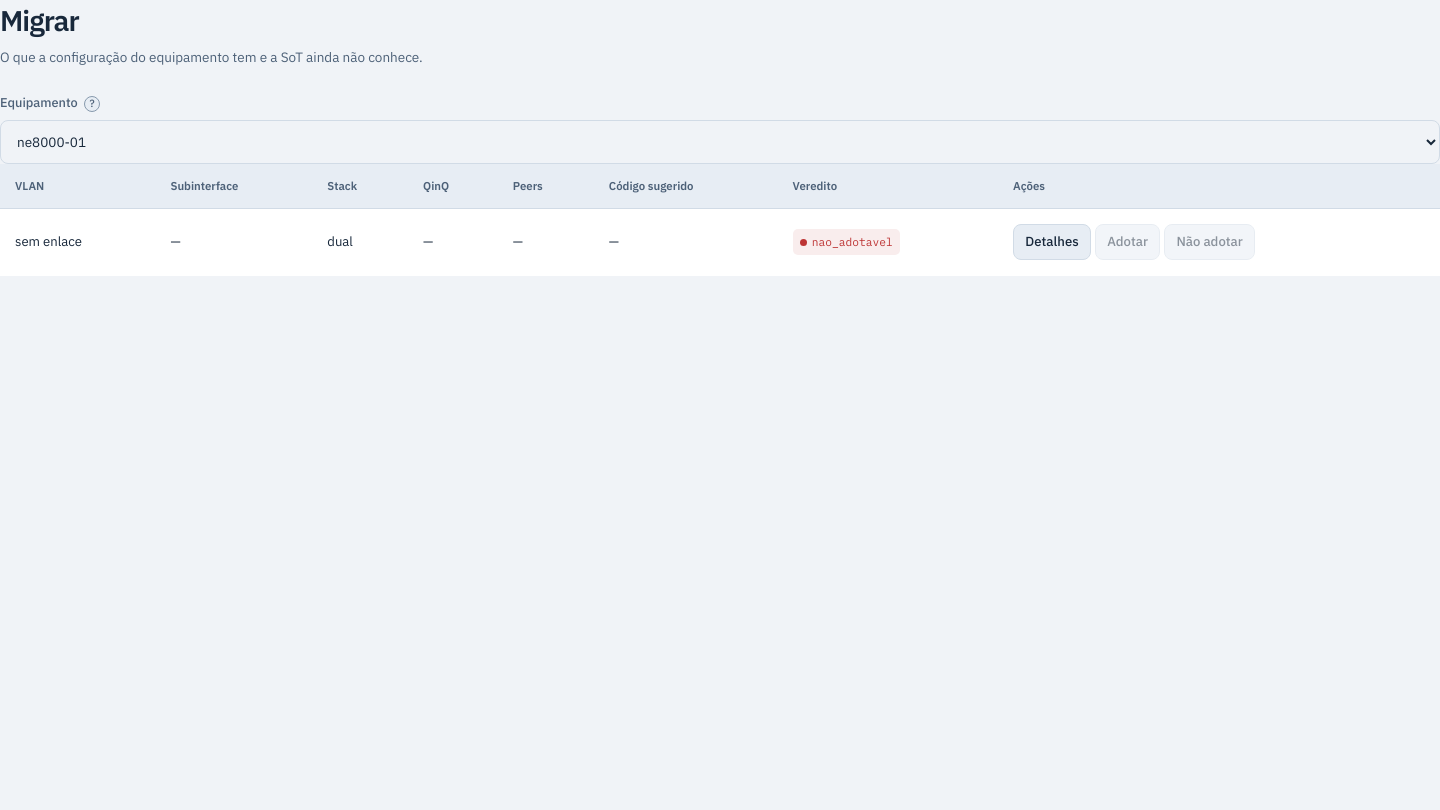
it: Discovery › a proposta órfã explica o conflito e não imprime null no título
Expected: the button "Não adotar" is disabled, top-left (1164, 224), bottom-right (1255, 260)
Click the button "Detalhes" at point(1052, 242), box top-left (1013, 224), bottom-right (1091, 260)
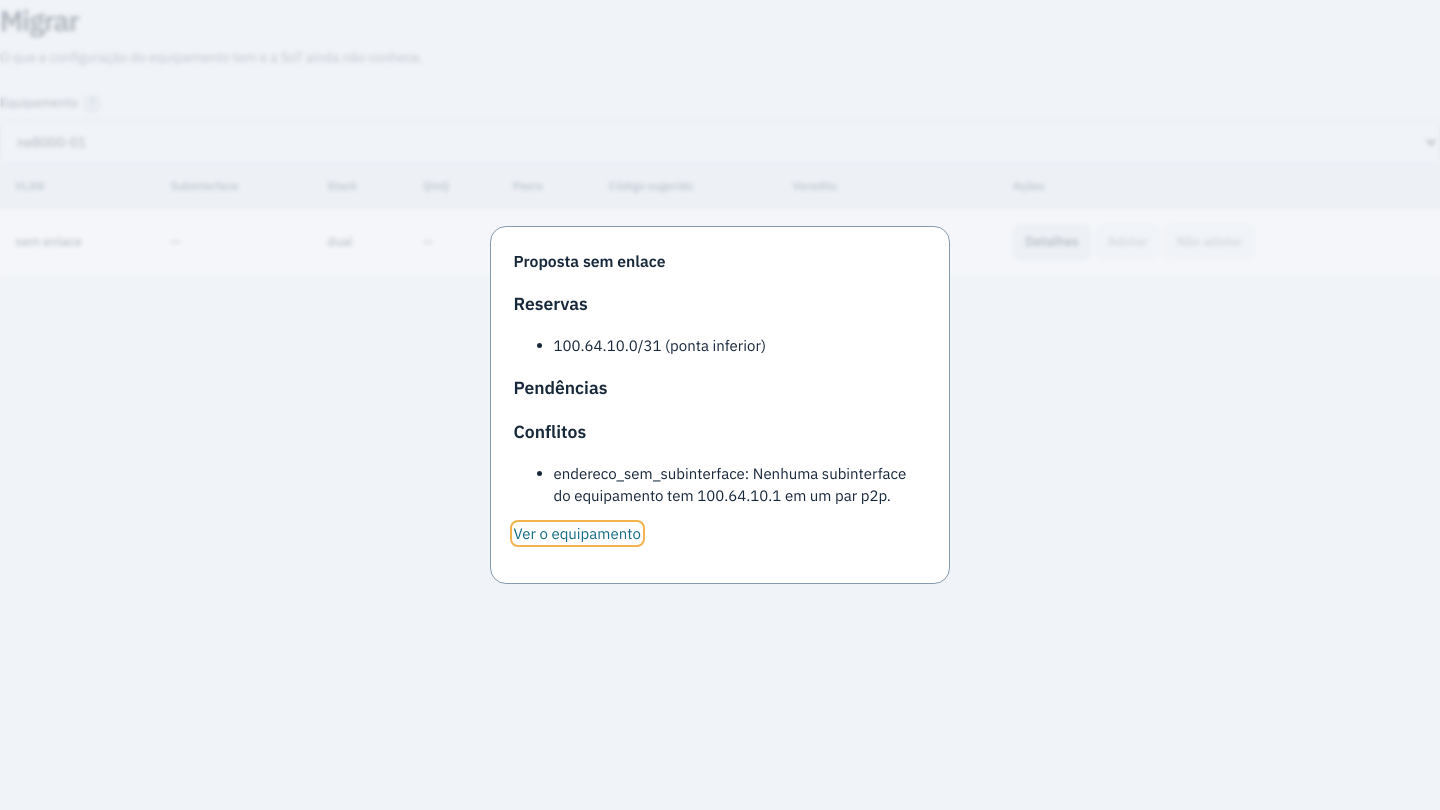
Expected: the heading "Proposta sem enlace" is shown, top-left (514, 251), bottom-right (666, 271)
Expected: the list item "endereco_sem_subinterface" is shown, top-left (554, 464), bottom-right (745, 483)
